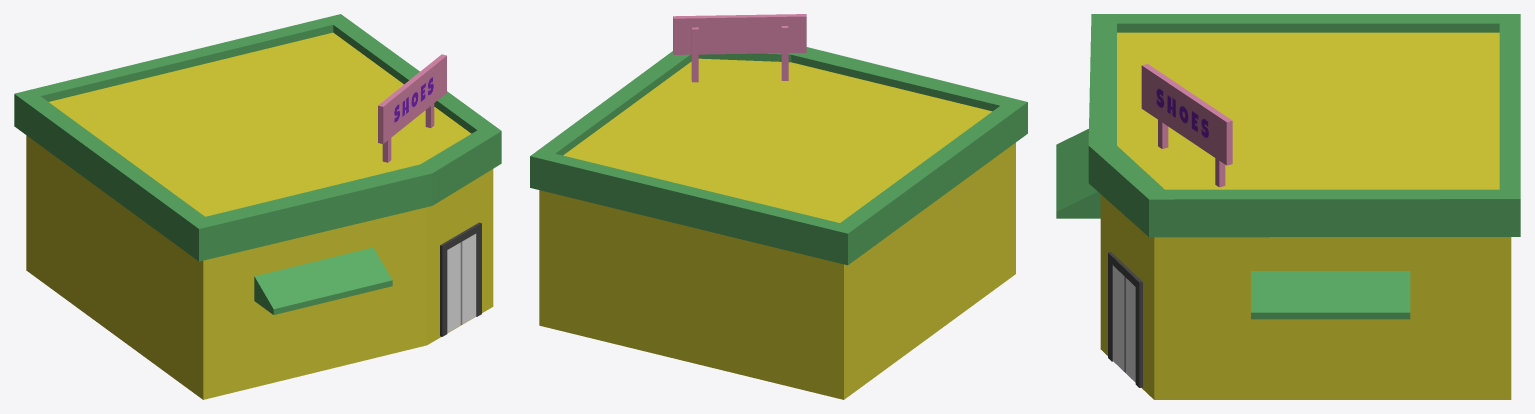
File: Shoes_shop.FBX
The picture shows the model from 3 angles, left to right: view 1: azimuth 30°, elevation 25°; view 2: azimuth 150°, elevation 25°; view 3: azimuth 270°, elevation 25°; orthographic projection. The views are drawn at different scales.
Parts seen in each view (by area): view 1: Shoes shop; view 2: Shoes shop; view 3: Shoes shop.
Boxes of the visible parts, x1,y1,x2,y2 form: Shoes shop: (14,14,501,399); Shoes shop: (530,14,1027,399); Shoes shop: (1056,14,1520,399).
Bounding box in the file's own units: 9.12 × 5.68 × 8.89.
Materials: 1 (1 with a texture image).
